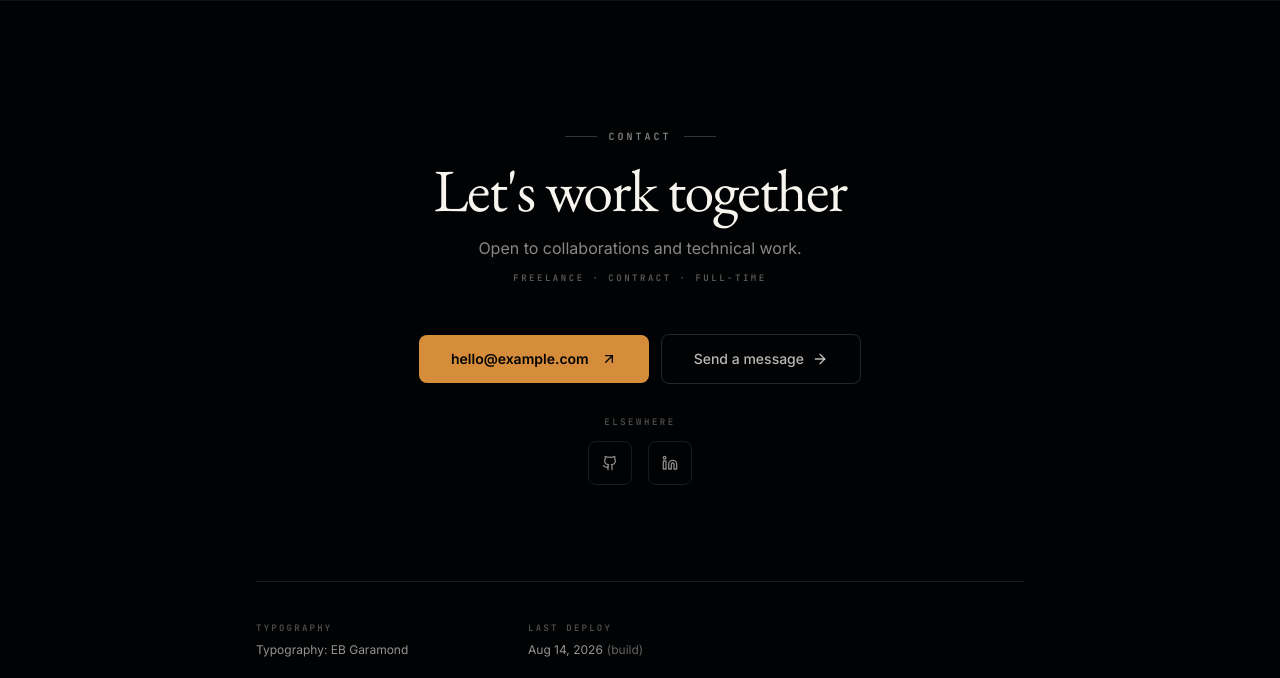
Test case: Contact section › closes the form when clicking the × button
Click the button "Send a message" at (761,358), box [661, 334, 861, 384]
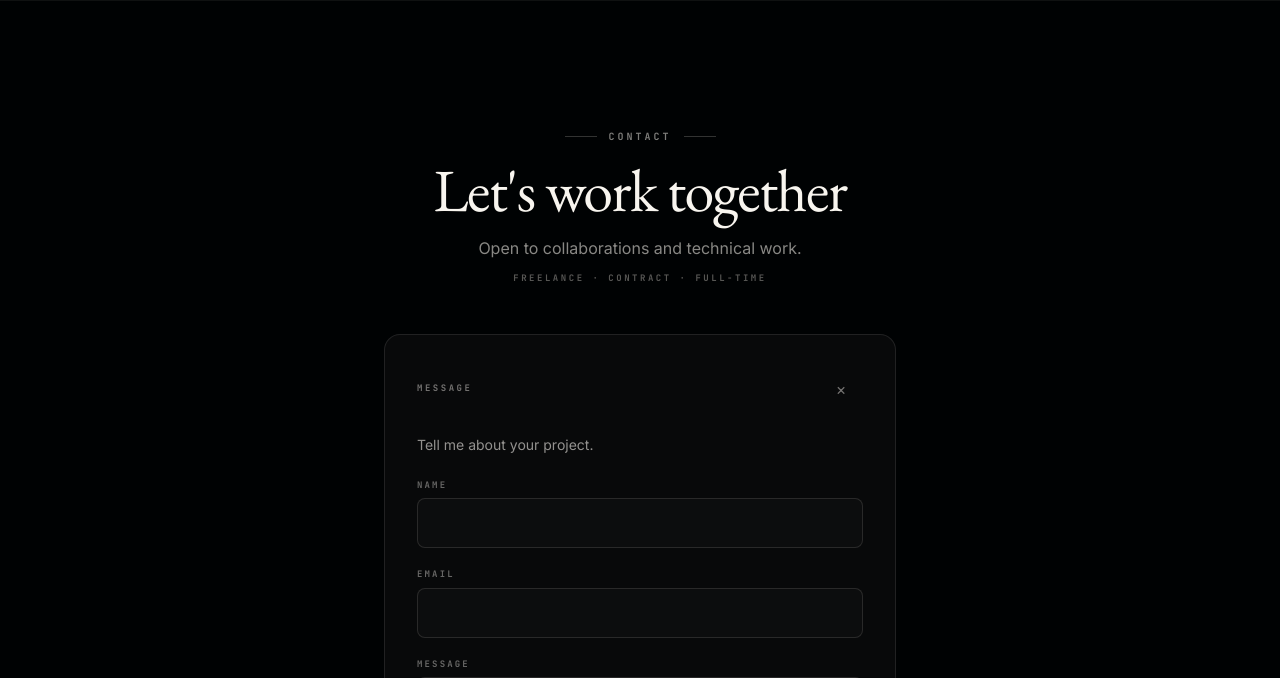
Result: the field labelled "Name" is shown at [417, 498, 863, 548]
Click the button named "Close form" at (841,388), box [819, 366, 863, 410]
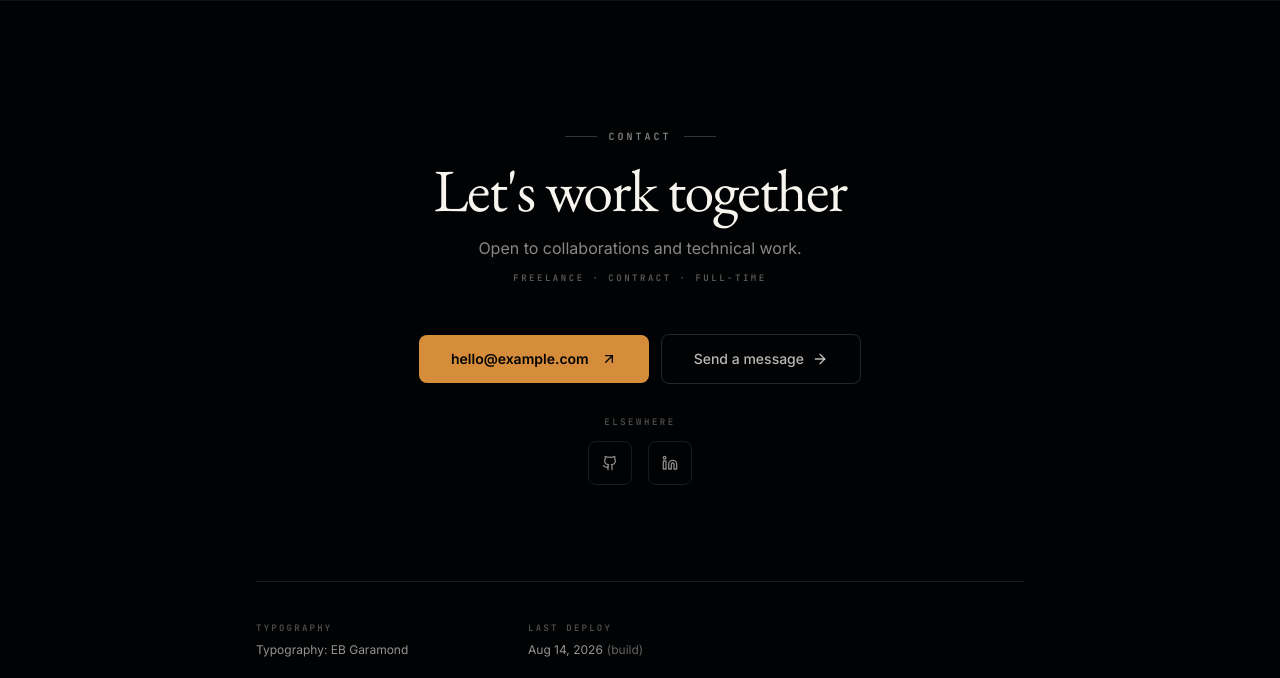
Result: the label labelled "Name" is gone
